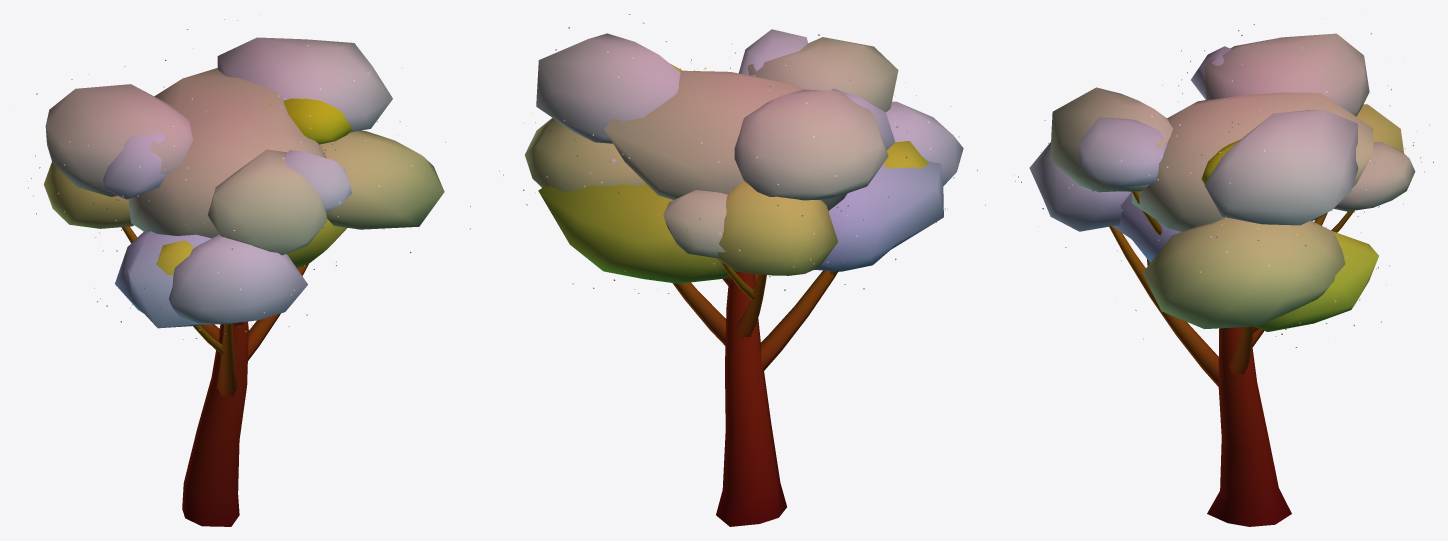
File: card_blossom.glb
The picture shows the model from 3 angles, left to right: view 1: azimuth 30°, elevation 25°; view 2: azimuth 150°, elevation 25°; view 3: azimuth 270°, elevation 25°; orthographic projection. The views are drawn at different scales.
Visible parts, largest first — view 1: card_blossom_LOD0; view 2: card_blossom_LOD0; view 3: card_blossom_LOD0.
Boxes of the visible parts, box(x1,y1,x2,y2) form: card_blossom_LOD0: box(28, 19, 470, 526); card_blossom_LOD0: box(499, 14, 985, 526); card_blossom_LOD0: box(1014, 18, 1433, 526).
Size of what is drawn, in the model's own units: 5.93 by 6.58 by 5.41.
